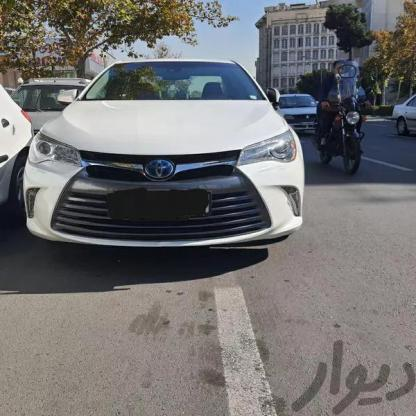Car: (6, 52, 316, 270), (311, 60, 382, 201), (259, 77, 339, 158), (380, 94, 416, 154)
